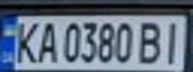0: (115, 19, 139, 64), (60, 18, 81, 64)
3: (78, 18, 100, 64)
8: (97, 19, 118, 64)
A: (33, 18, 60, 64)
B: (136, 18, 166, 65)
I: (157, 18, 187, 64)
K: (9, 18, 42, 64)
